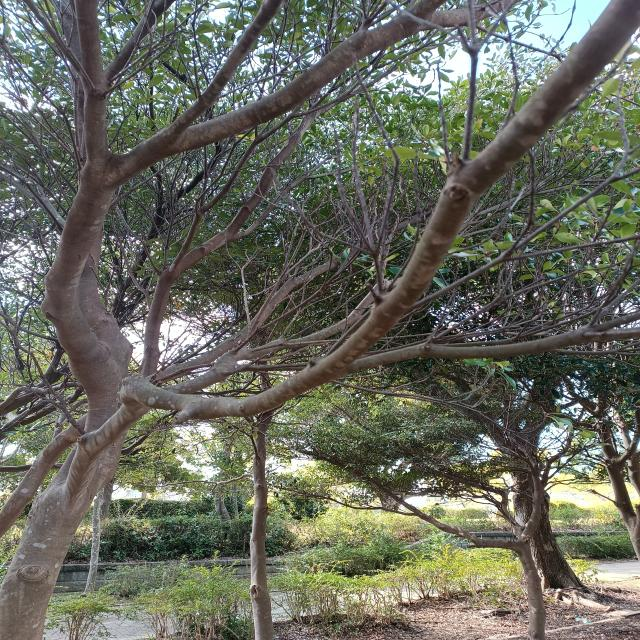Branch: (323, 0, 640, 369), (139, 107, 318, 377), (64, 363, 338, 496), (188, 6, 431, 147), (39, 150, 128, 429), (250, 280, 388, 358), (79, 231, 134, 379), (75, 1, 111, 163), (106, 0, 175, 81), (165, 344, 251, 394), (119, 125, 192, 177), (89, 434, 128, 503), (56, 443, 76, 484)
Twig: (173, 0, 285, 128), (343, 324, 599, 376), (235, 250, 359, 353), (509, 169, 638, 254), (406, 252, 512, 313), (317, 56, 413, 118), (261, 90, 353, 139), (239, 174, 309, 238), (207, 135, 262, 210), (313, 50, 382, 108), (288, 289, 366, 339), (112, 28, 177, 81), (104, 43, 170, 94), (508, 235, 639, 260), (169, 205, 206, 272), (194, 174, 224, 213), (306, 153, 345, 174), (596, 327, 640, 343), (238, 362, 307, 372), (599, 312, 639, 329), (306, 167, 355, 179), (200, 147, 208, 206), (291, 100, 307, 113)
